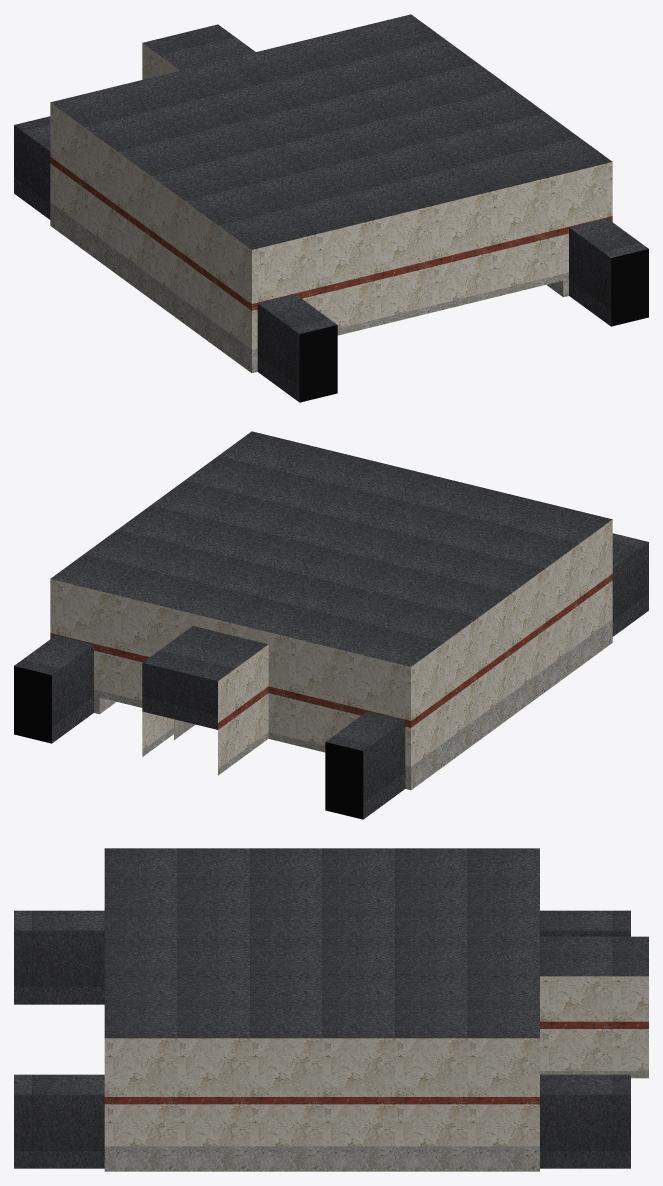
File: SubwayTerminal.fbx
3 views of the same model, one above another, from view 1: azimuth 30°, elevation 25°; view 2: azimuth 150°, elevation 25°; view 3: azimuth 270°, elevation 25° (orthographic). The views are drawn at different scales.
Visible parts, largest first — view 1: Terminal_Shell, Stairway_Sealed; view 2: Terminal_Shell, Stairway_Sealed; view 3: Terminal_Shell, Stairway_Sealed.
Boxes of the visible parts, x1,y1,x2,y2 form: Terminal_Shell: [14, 14, 648, 402]; Stairway_Sealed: [142, 24, 255, 79]; Terminal_Shell: [14, 431, 648, 819]; Stairway_Sealed: [142, 626, 268, 775]; Terminal_Shell: [14, 848, 630, 1171]; Stairway_Sealed: [540, 936, 648, 1078].
Size of the model in its own units: 24.8 by 8.1 by 35.
